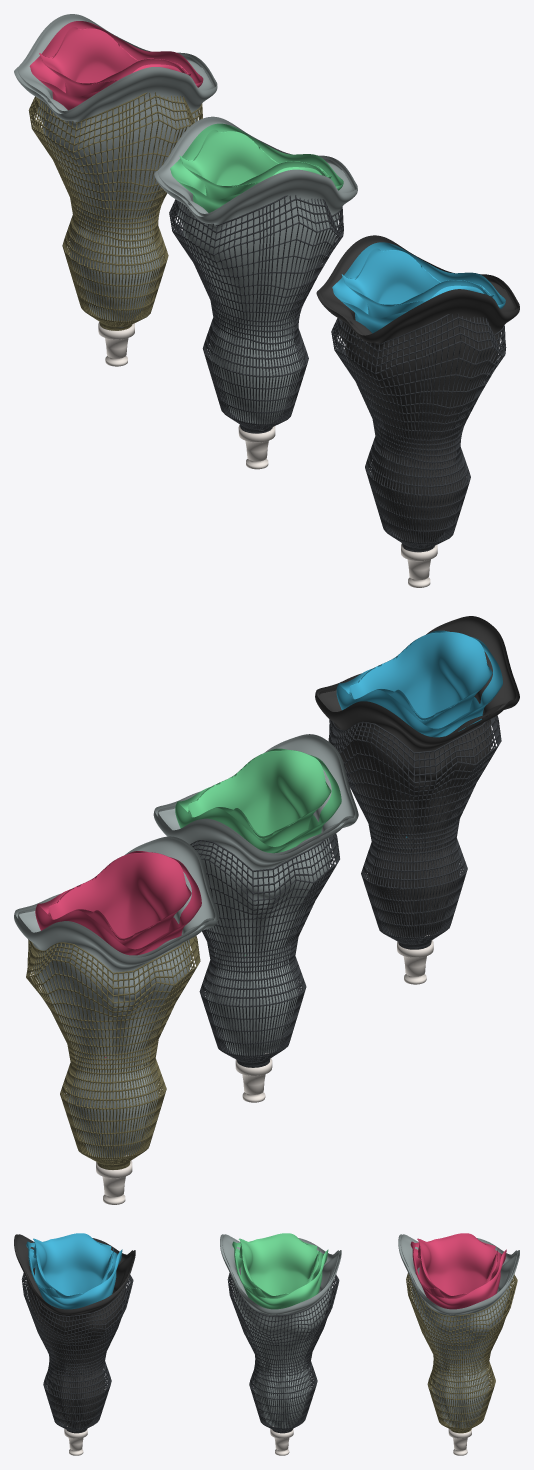
The model's file is socketthree.glb.
3 views of the same model, one above another, from view 1: azimuth 30°, elevation 25°; view 2: azimuth 150°, elevation 25°; view 3: azimuth 270°, elevation 25° (orthographic). The views are drawn at different scales.
Visible parts, largest first — view 1: Cylinder.002, Cylinder.001, Cylinder.003; view 2: Cylinder.003, Cylinder.001, Cylinder.002; view 3: Cylinder.002, Cylinder.003, Cylinder.001.
Boxes of the visible parts, x1,y1,x2,y2 form: Cylinder.002: (154, 116, 357, 469); Cylinder.001: (316, 235, 519, 587); Cylinder.003: (14, 14, 217, 366); Cylinder.003: (14, 836, 218, 1204); Cylinder.001: (315, 616, 519, 984); Cylinder.002: (153, 734, 358, 1102); Cylinder.002: (220, 1233, 341, 1455); Cylinder.003: (398, 1233, 519, 1455); Cylinder.001: (14, 1233, 135, 1455).
Bounding box in the file's own units: 0.3046 × 0.5322 × 1.16.
